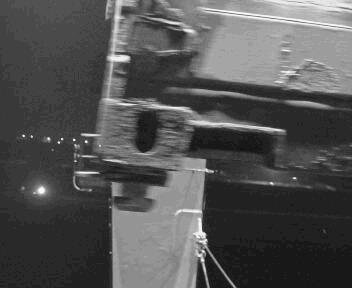twist_lock_1: (94, 160, 171, 215)
